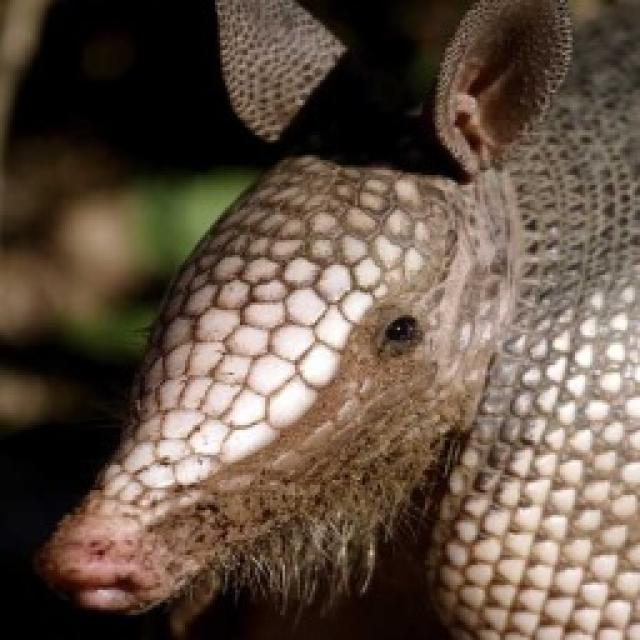not_pig: (32, 0, 638, 638)
